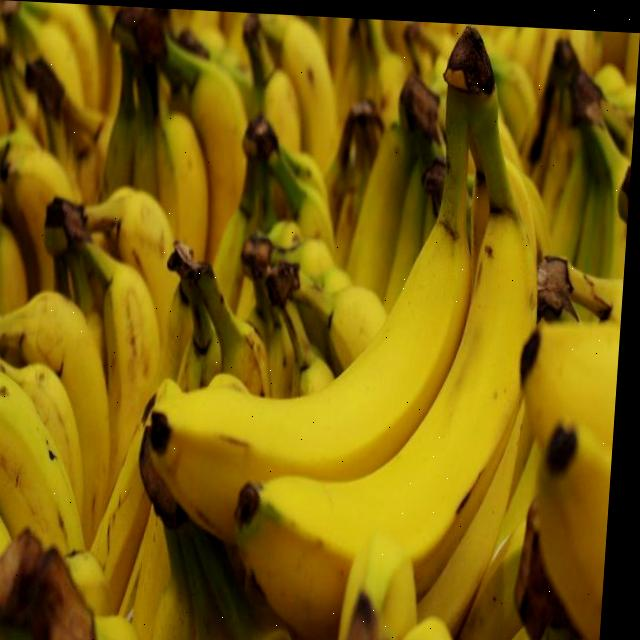banana: (142, 18, 555, 637), (40, 179, 177, 464), (100, 13, 258, 256), (506, 307, 621, 637), (0, 283, 109, 542), (348, 71, 449, 302), (0, 1, 108, 168), (269, 254, 389, 399), (164, 247, 278, 396), (238, 17, 347, 170)
